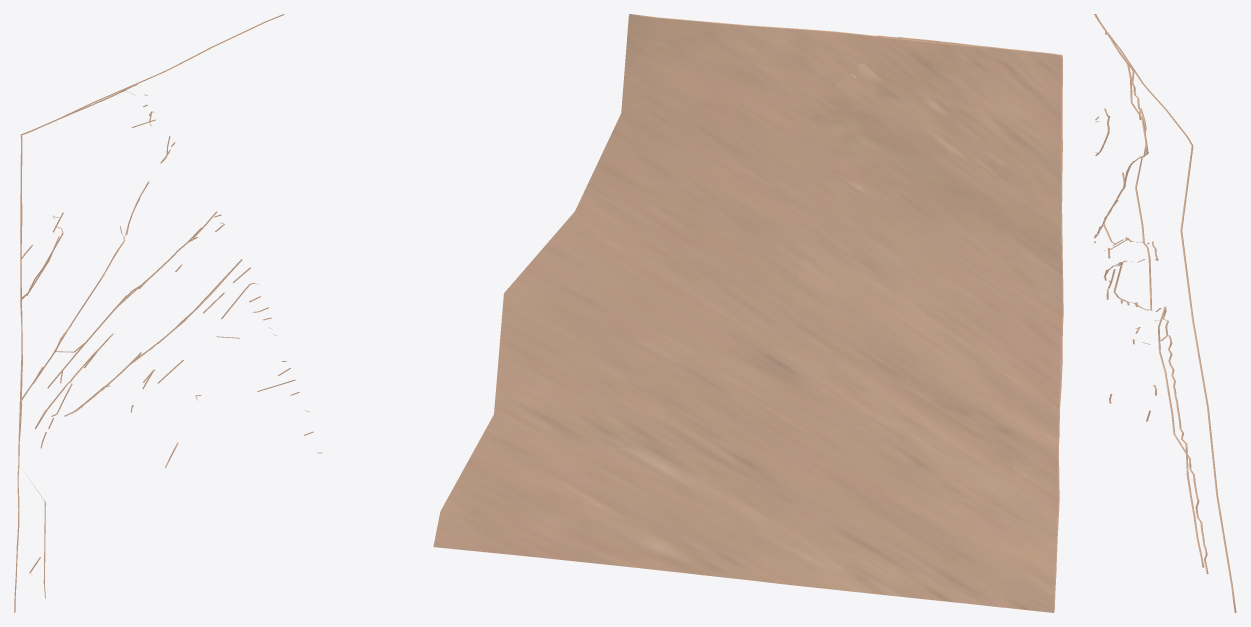
3 renders of one model, left to right at view 1: azimuth 30°, elevation 25°; view 2: azimuth 150°, elevation 25°; view 3: azimuth 270°, elevation 25°, orthographic. The views are drawn at different scales.
Size of the model in its own units: 24.26 by 24 by 7.7.
1 material, 1 textured.
